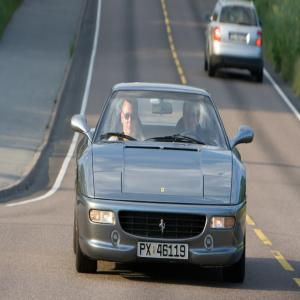Vehicle-registration-plate: (138, 242, 190, 263)
